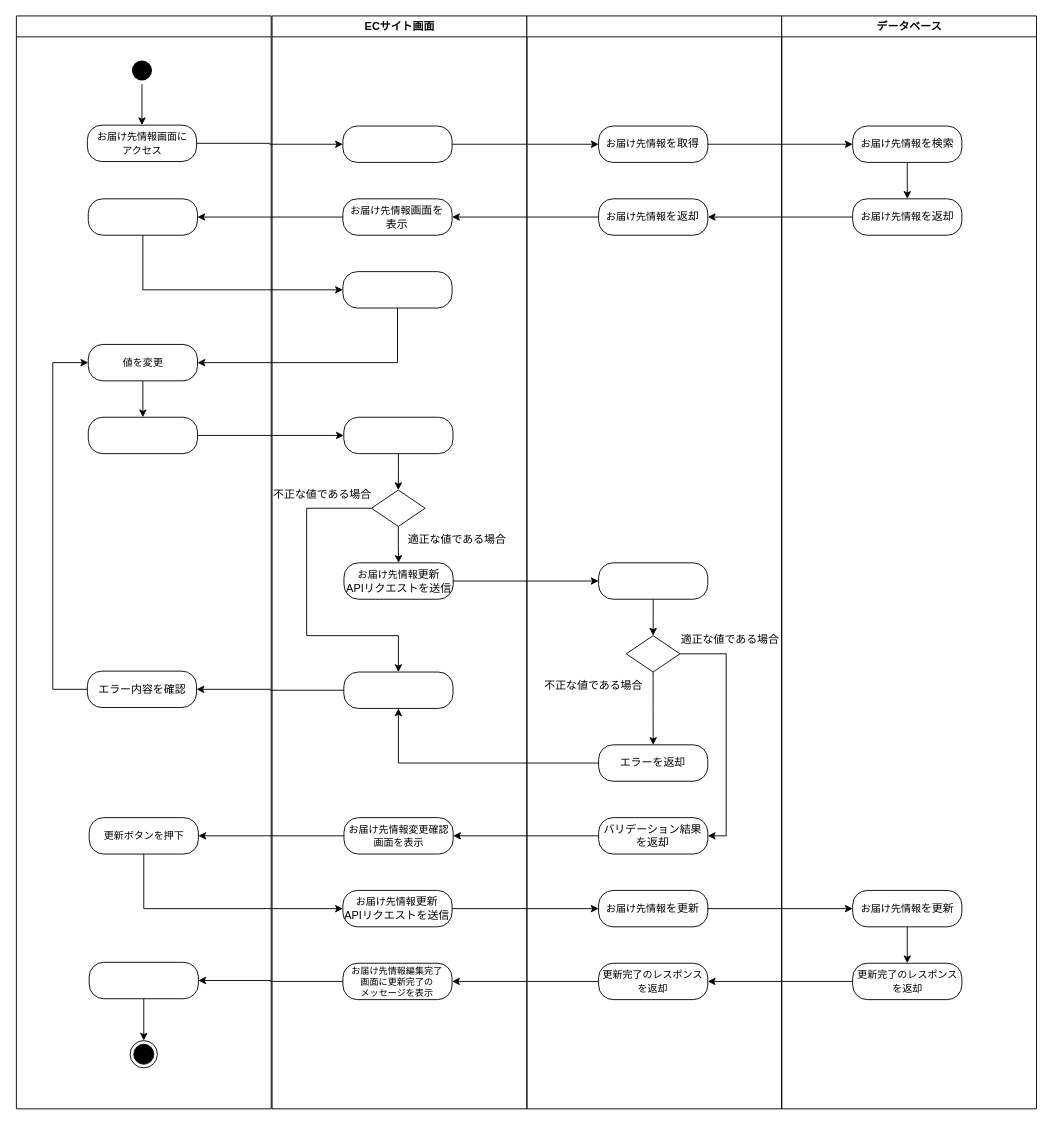
The diagram is 1052 pixels wide and 1125 high, and some of its shapes have lost their labels. The shapes that lost their labels are listed below. From the top down, each one's box as (x1, y1, x2, y2) in pixels, then its label:
(342, 125, 452, 162): お届け先情報 取得 APIリクエストを送信
(87, 198, 197, 235): 編集ボタンを押下
(342, 271, 452, 308): お届け先情報 編集 画面を 表示
(87, 416, 197, 454): 確認ボタンを押下
(343, 416, 453, 454): 入力値の バリデーション
(15, 15, 271, 1109): 販売管理者
(598, 562, 708, 599): お届け先情報 の バリデーション
(526, 15, 782, 1109): APIサーバー
(343, 671, 453, 708): エラー内容を表示
(88, 961, 198, 999): 更新が完了したことを確認
